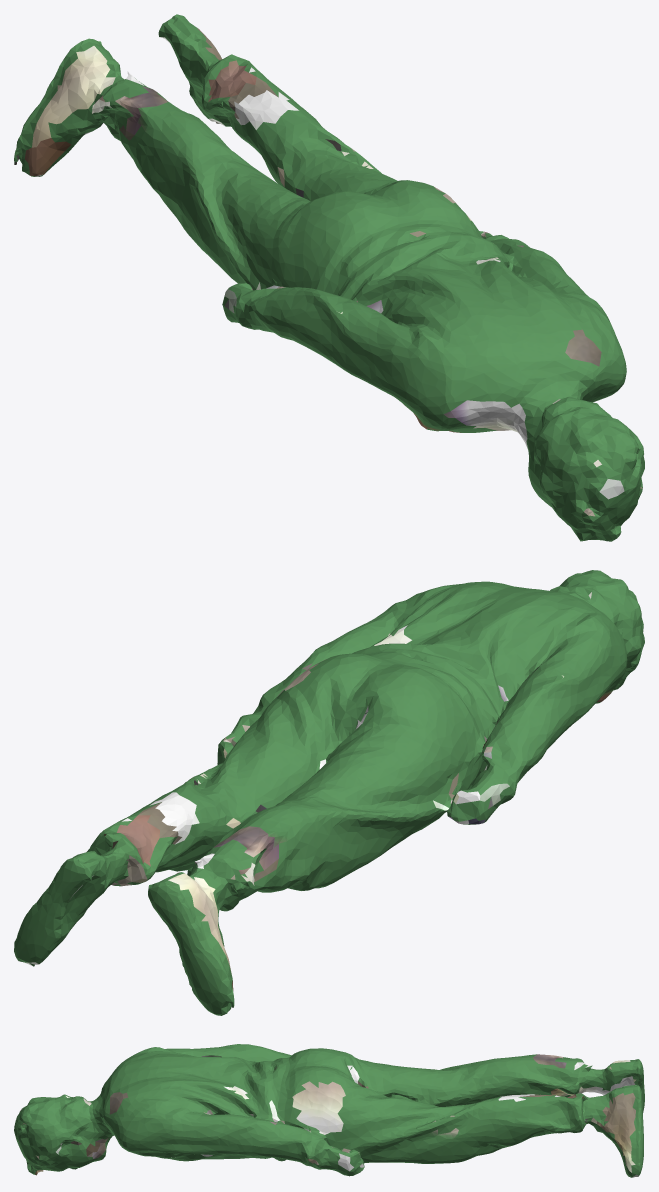
Rendered from Jeremi.obj.
3 renders of one model, top to bottom at view 1: azimuth 30°, elevation 25°; view 2: azimuth 150°, elevation 25°; view 3: azimuth 270°, elevation 25°, orthographic. The views are drawn at different scales.
Bounding box in the file's own units: 0.563 × 0.3545 × 1.76.
